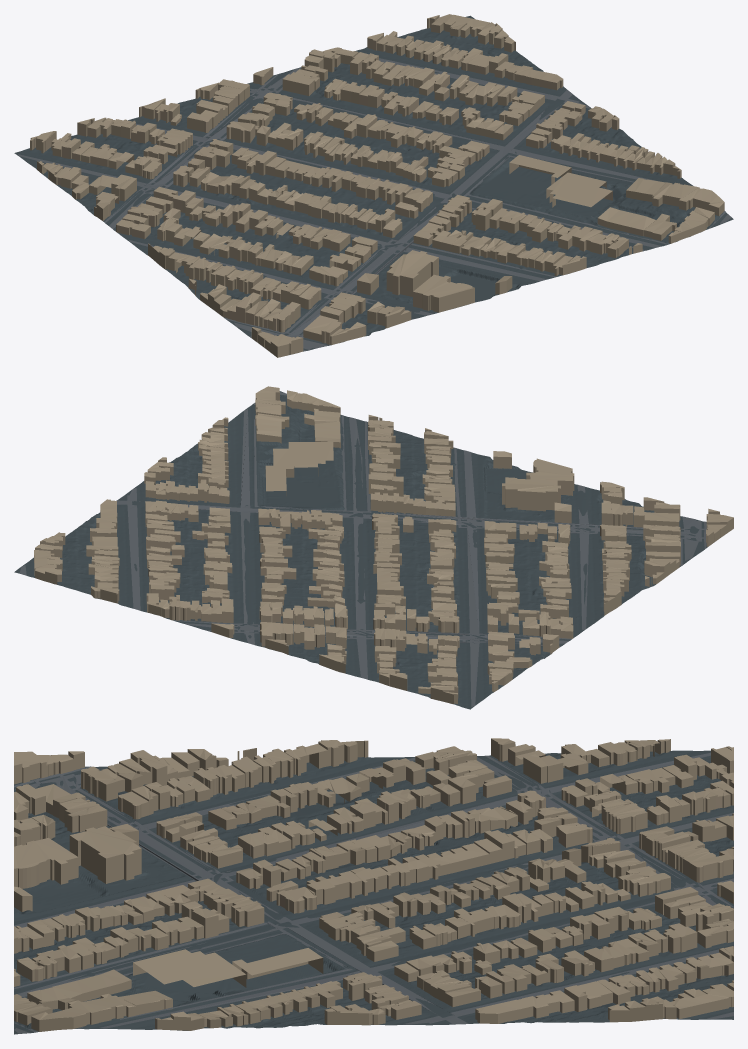
Rendered from epsg26910-1432-10873.lod0.glb.
The picture shows the model from 3 angles, top to bottom: view 1: azimuth 30°, elevation 25°; view 2: azimuth 150°, elevation 25°; view 3: azimuth 270°, elevation 25°; orthographic projection. The views are drawn at different scales.
Visible parts, largest first — view 1: epsg26910-1432-10873-lod0; view 2: epsg26910-1432-10873-lod0; view 3: epsg26910-1432-10873-lod0.
Boxes of the visible parts, bbox=[...] form: epsg26910-1432-10873-lod0: bbox=[14, 14, 733, 357]; epsg26910-1432-10873-lod0: bbox=[14, 386, 733, 709]; epsg26910-1432-10873-lod0: bbox=[14, 738, 733, 1034].
Size of the model in its own units: 384 by 40.33 by 384.
